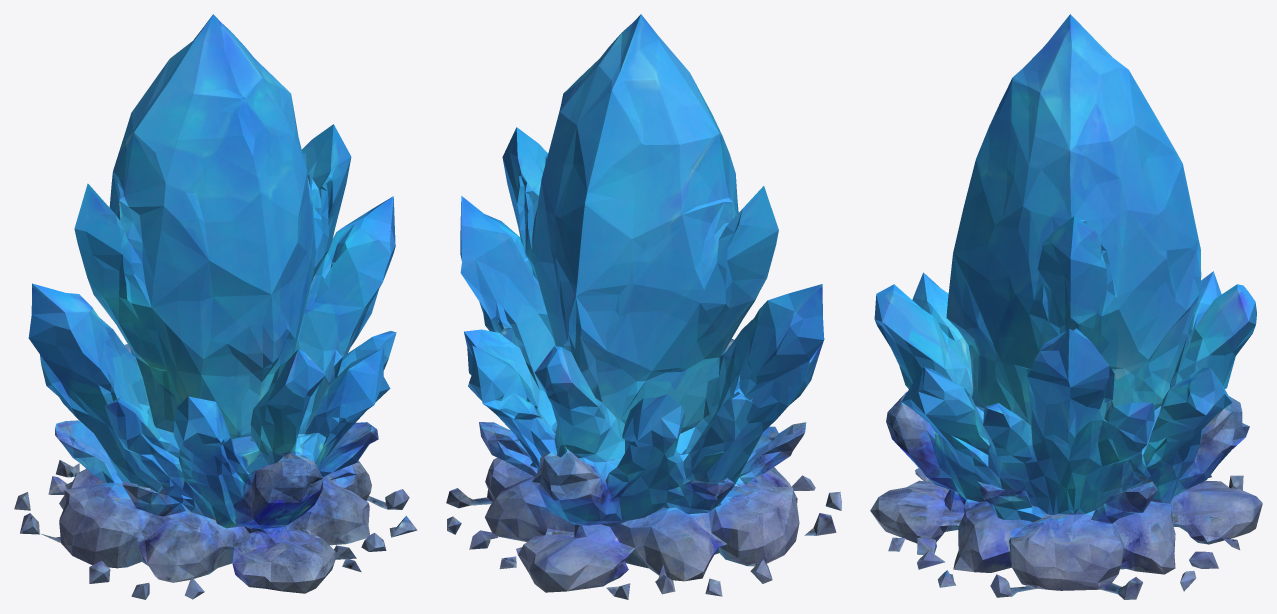
File: BlueCrystal.gltf
The picture shows the model from 3 angles, left to right: view 1: azimuth 30°, elevation 25°; view 2: azimuth 150°, elevation 25°; view 3: azimuth 270°, elevation 25°; orthographic projection.
Visible parts, largest first — view 1: Blue_glowing_crystal__0515052952_texture; view 2: Blue_glowing_crystal__0515052952_texture; view 3: Blue_glowing_crystal__0515052952_texture.
Part boxes in pixels (bbox=[...]): Blue_glowing_crystal__0515052952_texture: bbox=[14, 14, 417, 599]; Blue_glowing_crystal__0515052952_texture: bbox=[446, 14, 841, 599]; Blue_glowing_crystal__0515052952_texture: bbox=[870, 14, 1262, 599].
Bounding box in the file's own units: 0.7432 × 1 × 0.6893.
Materials: 1 (1 with a texture image).
